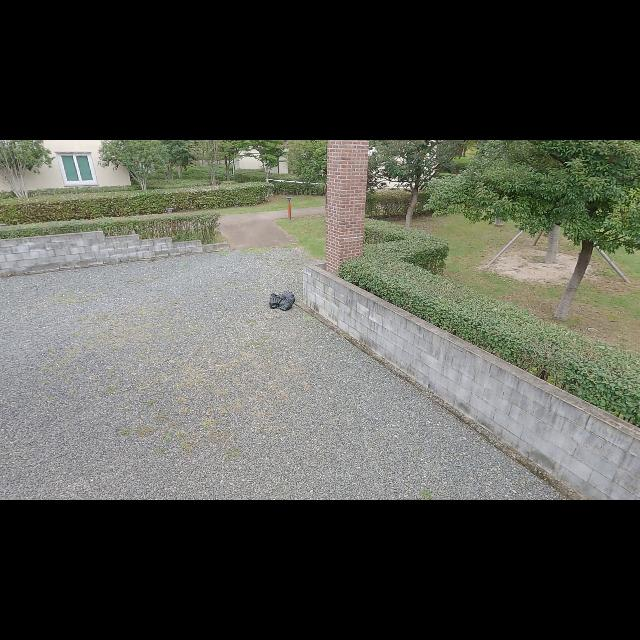trash: (276, 295, 294, 313), (278, 288, 296, 306), (268, 292, 284, 310)
